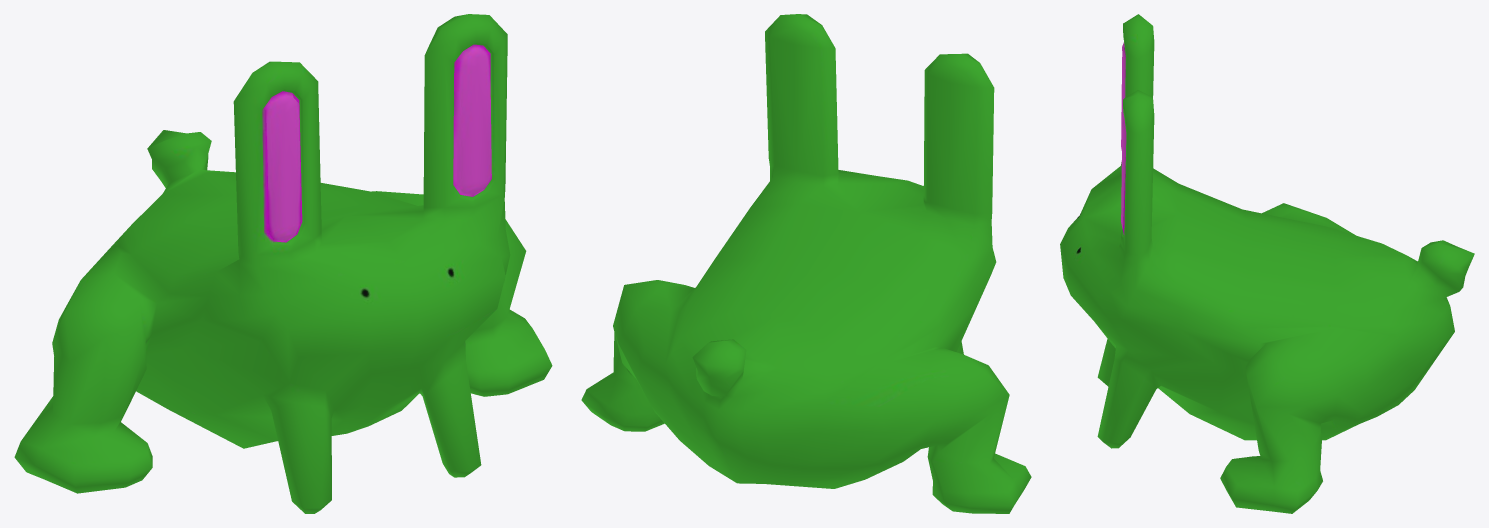
The model's file is ribbunny_model_embedded.gltf.
The picture shows the model from 3 angles, left to right: view 1: azimuth 30°, elevation 25°; view 2: azimuth 150°, elevation 25°; view 3: azimuth 270°, elevation 25°; orthographic projection. The views are drawn at different scales.
Visible parts, largest first — view 1: Cube; view 2: Cube; view 3: Cube.
Part boxes in pixels (box(x1,y1,x2,y2)): Cube: box(14, 14, 552, 513); Cube: box(581, 14, 1031, 513); Cube: box(1060, 14, 1474, 513).
Size of the model in its own units: 1.27 by 1.04 by 1.09.
1 material, 1 textured.
